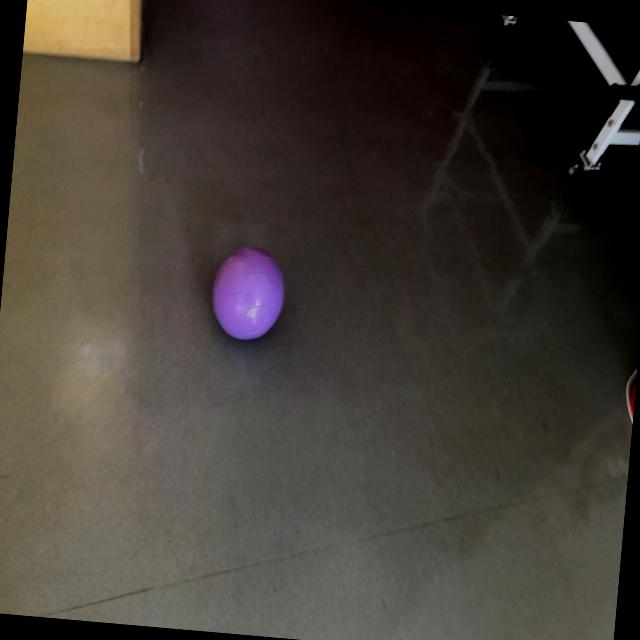purple_ball: (208, 240, 290, 344)
